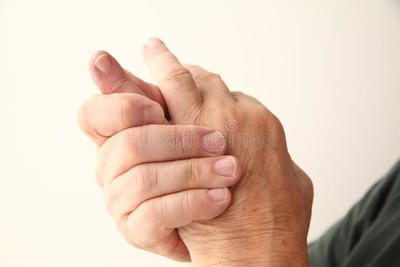mindinho: (120, 187, 241, 254)
